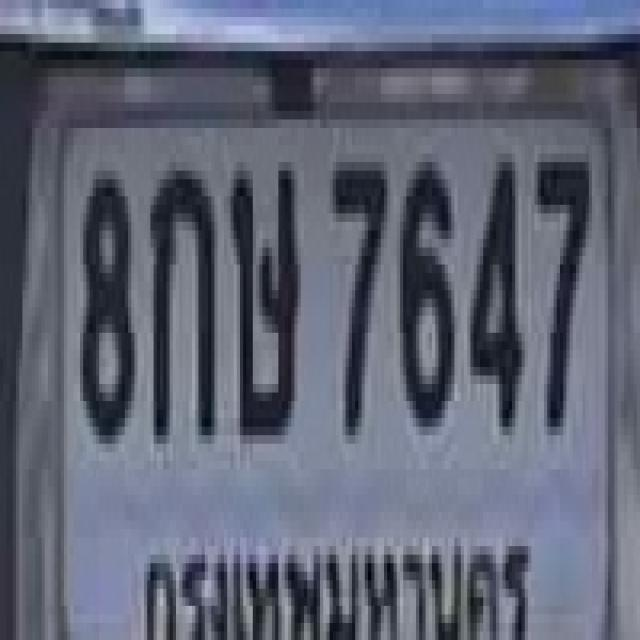-: (227, 154, 298, 435), (146, 162, 212, 435)
4: (468, 145, 518, 427)
6: (397, 154, 451, 418)
7: (330, 154, 384, 426), (534, 154, 586, 426)
8: (77, 162, 131, 435)
